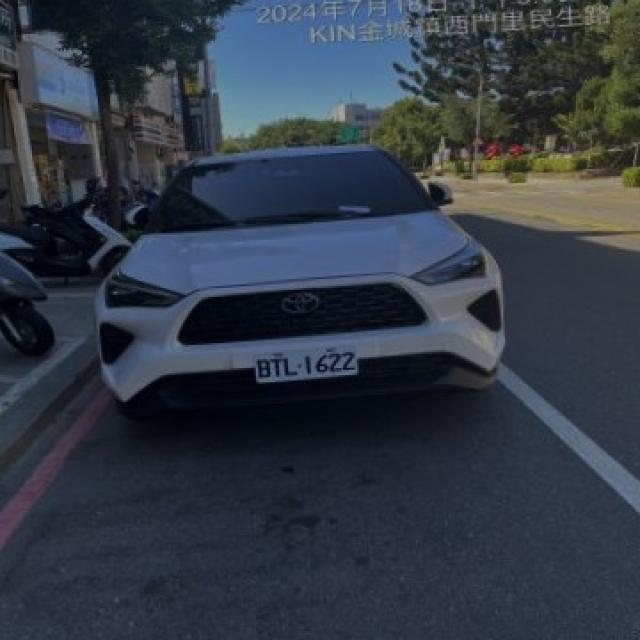Legalparking: (97, 98, 564, 455)
